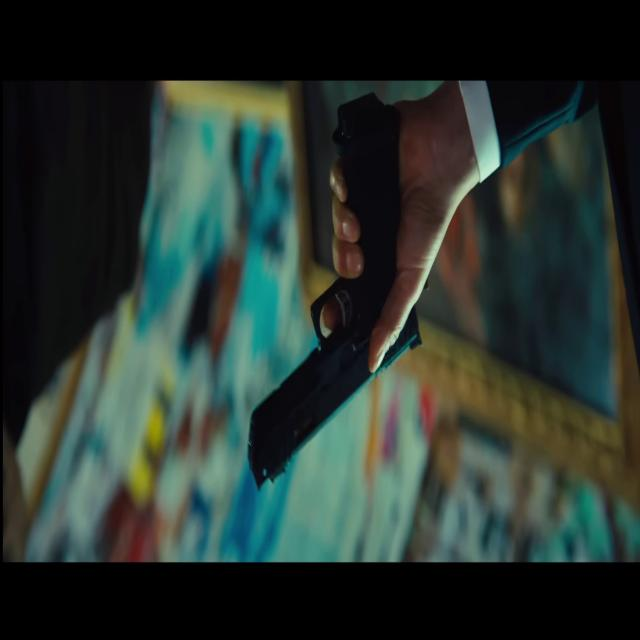weapons: (237, 83, 431, 501)
